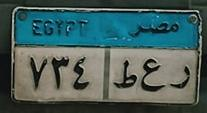3: (49, 56, 69, 88)
4: (70, 57, 92, 90)
7: (27, 54, 47, 92)
Taa: (115, 57, 137, 93)
ain: (140, 55, 162, 92)
raa: (167, 63, 192, 94)
